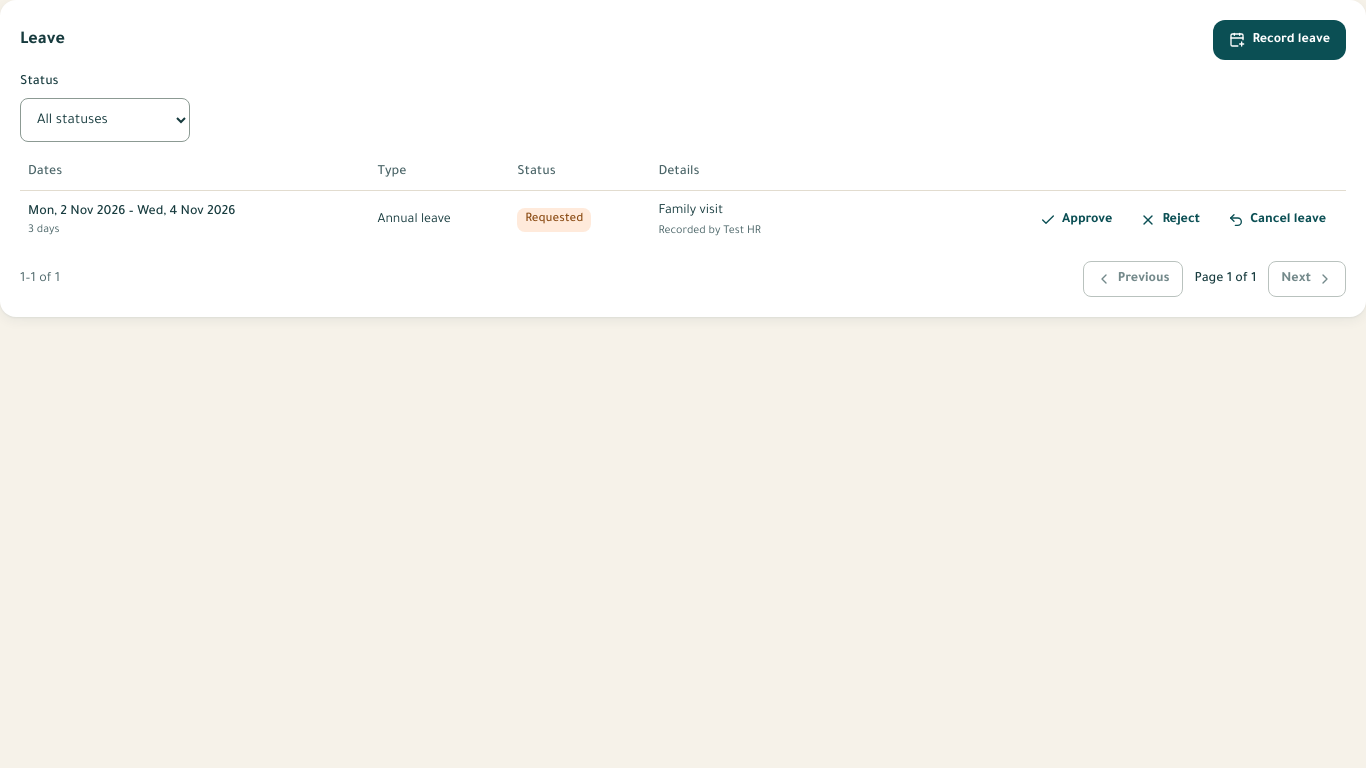
Test: A05 worker tabs › names the short slot from the slot pick-list for a role that may read it
The width and height of the screenshot is (1366, 768).
Click the button with aria-label "Approve the leave from Mon, 2 Nov 2026": (1076, 220) [1028,202,1124,238]
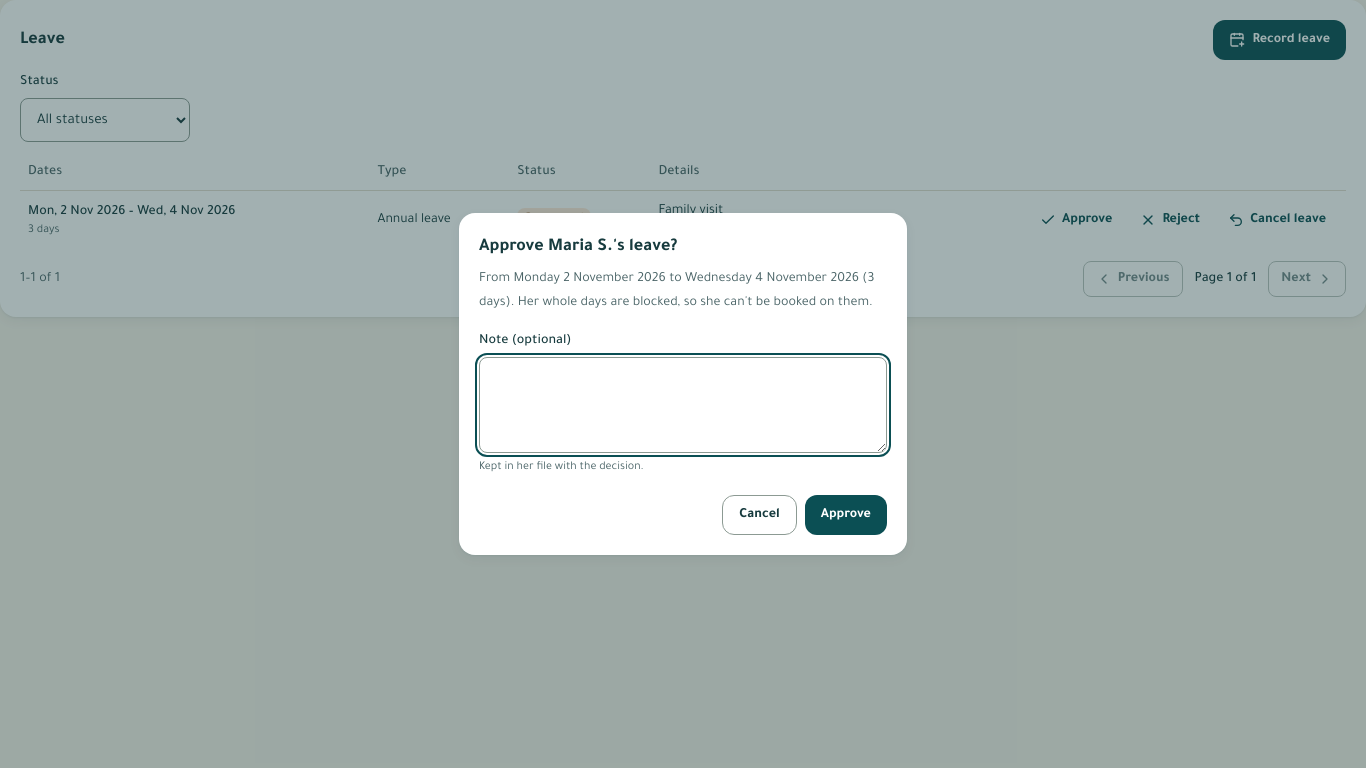
Click the button "Approve": (846, 515) [805,495,887,535]
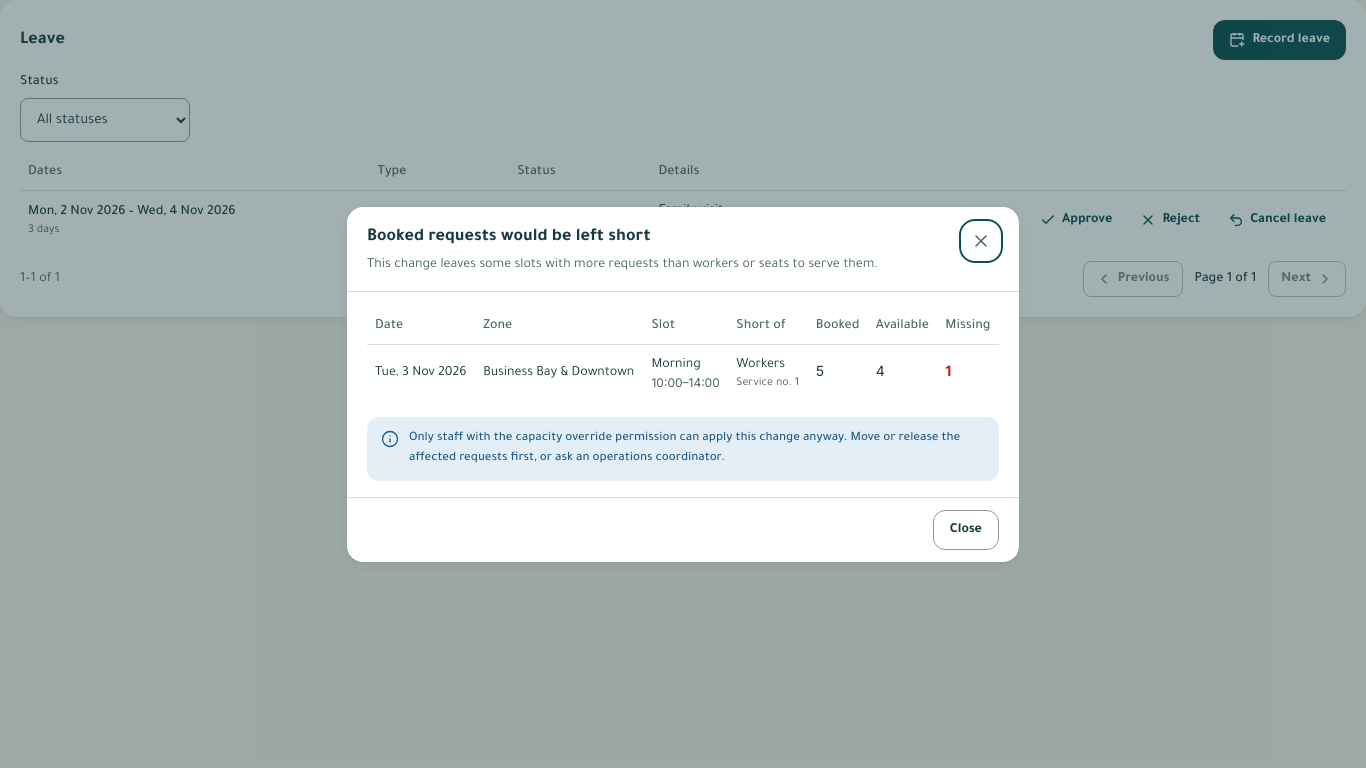
expect the text "Morning" is shown: met, box [652,358,701,372]
